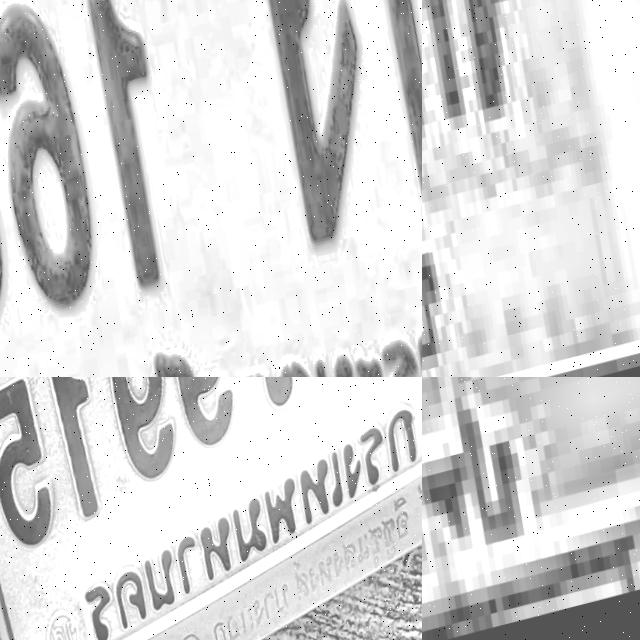license-plate: (0, 0, 422, 377), (0, 377, 422, 640), (422, 0, 640, 377), (422, 377, 640, 640)
